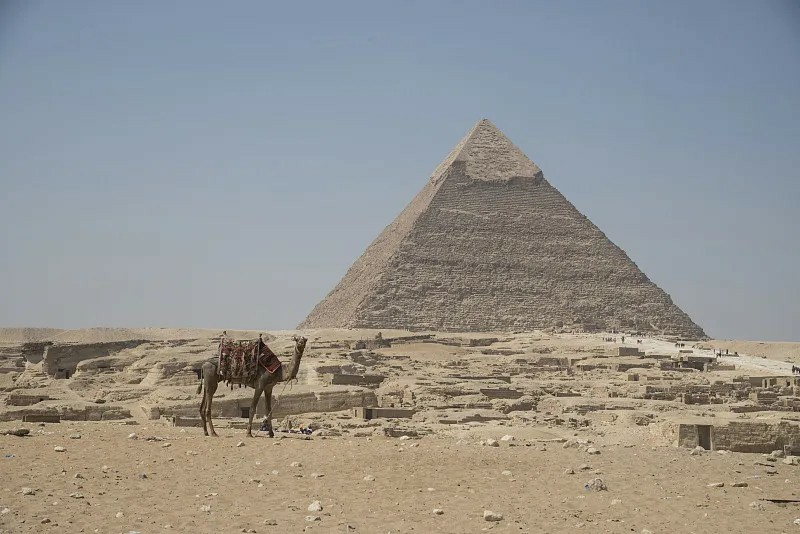Pyramid: (298, 119, 713, 338)
